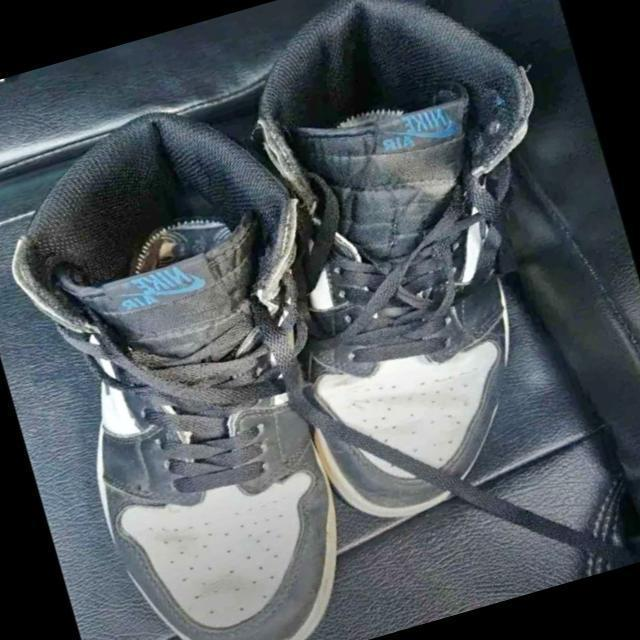nike fake jordan 1: (194, 0, 640, 539), (0, 83, 418, 640)
